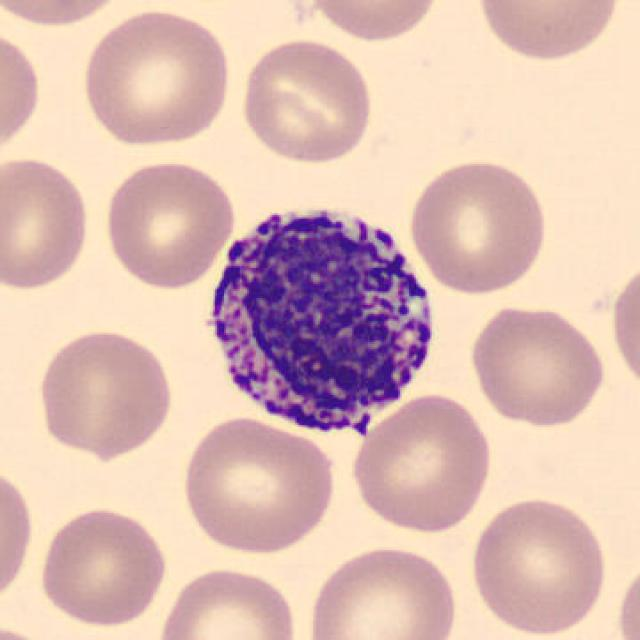Basophil: (192, 188, 448, 448)
RBC: (176, 413, 340, 557), (76, 5, 235, 150), (347, 390, 498, 536), (466, 490, 610, 638), (405, 154, 551, 296), (32, 324, 176, 462), (100, 155, 238, 291), (466, 300, 610, 430), (236, 35, 377, 166), (34, 501, 170, 629), (302, 539, 462, 640), (0, 152, 94, 294), (153, 562, 302, 640), (471, 0, 624, 65), (304, 0, 446, 44), (0, 21, 44, 160), (0, 458, 37, 611), (608, 256, 640, 396), (2, 0, 132, 30), (611, 553, 640, 640), (0, 622, 66, 640)
